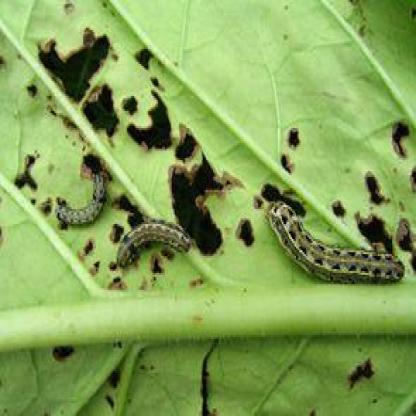armyworm: (268, 197, 409, 287), (113, 218, 192, 275), (55, 168, 105, 232)
